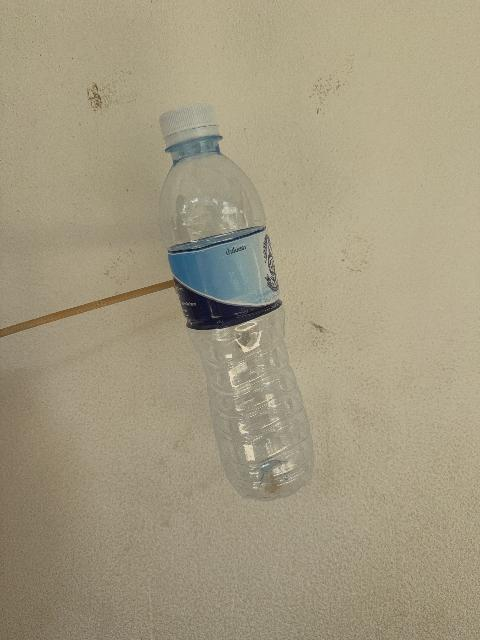bottle: (160, 104, 313, 500)
